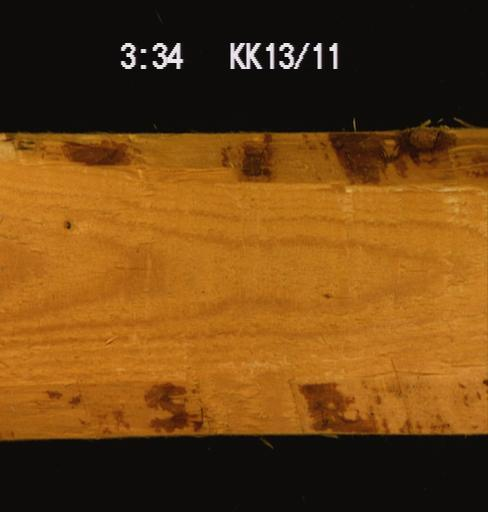small_knot: (62, 216, 71, 231)
wave: (0, 366, 486, 436), (0, 130, 486, 191)
